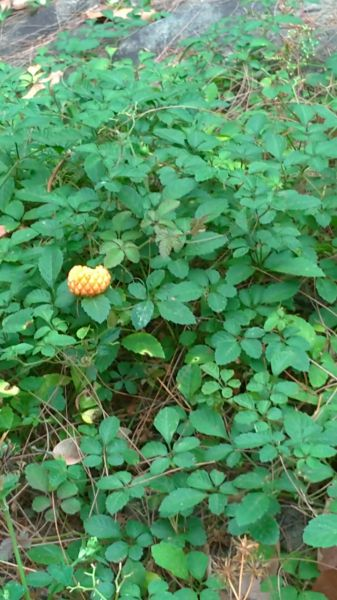eggs: (61, 259, 119, 297)
